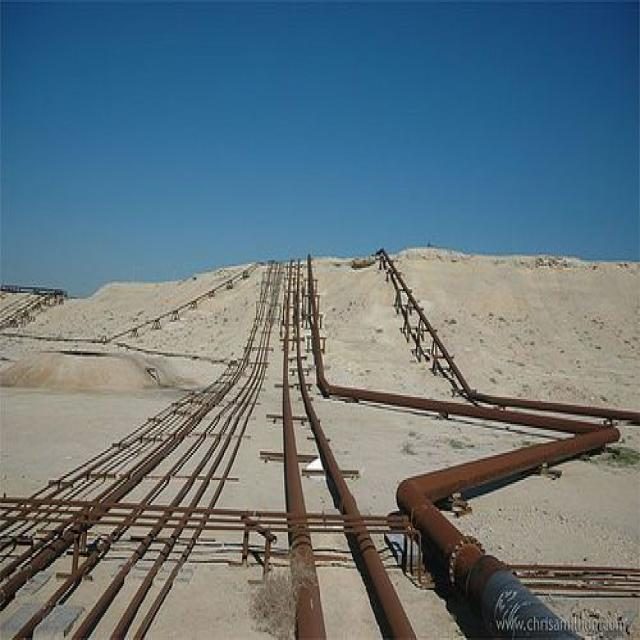gas: (0, 264, 282, 639), (398, 427, 618, 639), (298, 286, 415, 639), (282, 267, 326, 640), (321, 378, 606, 432)
